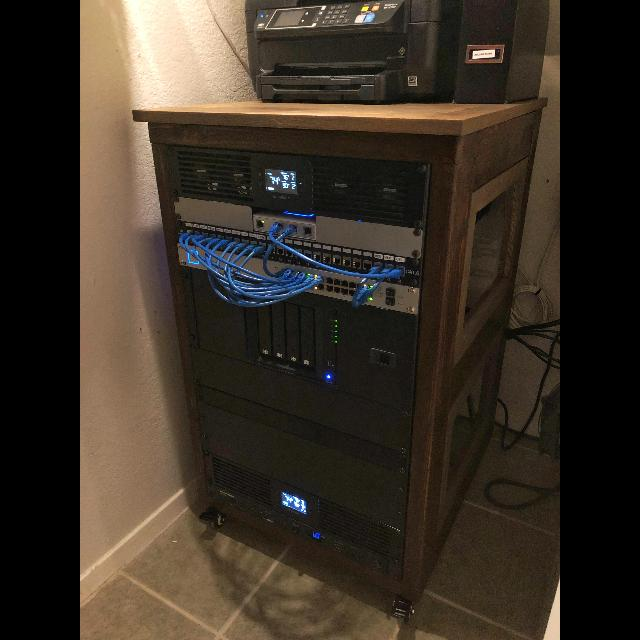Server: (160, 140, 428, 602)
